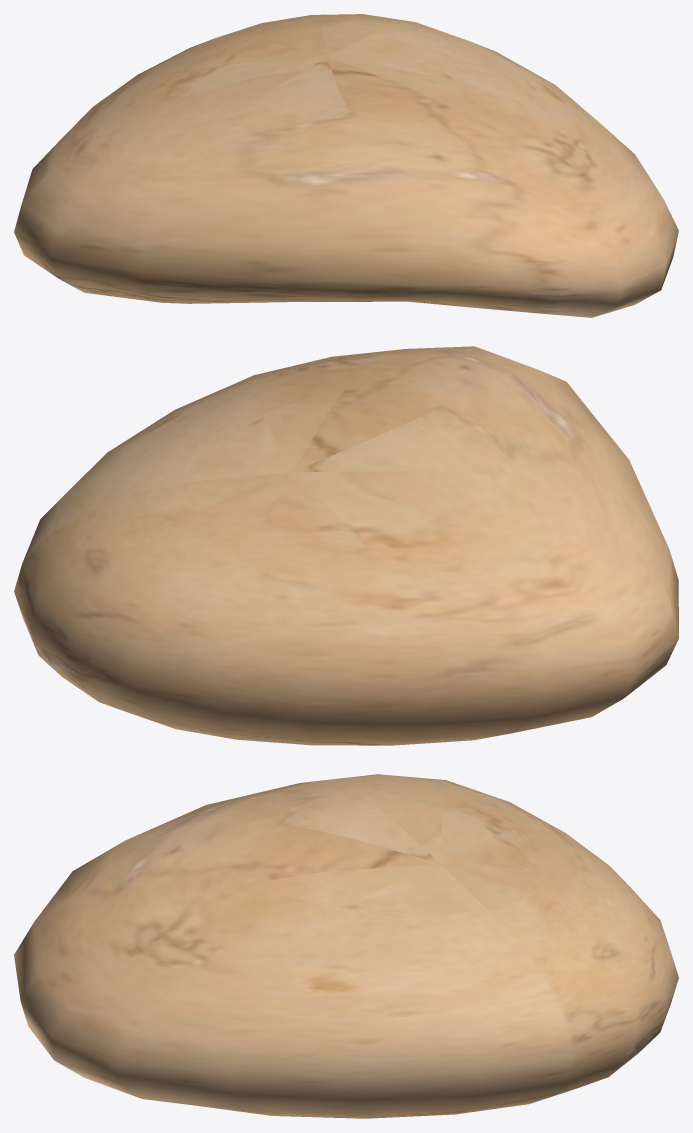
File: Rock_F.fbx
The picture shows the model from 3 angles, top to bottom: view 1: azimuth 30°, elevation 25°; view 2: azimuth 150°, elevation 25°; view 3: azimuth 270°, elevation 25°; orthographic projection. The views are drawn at different scales.
Parts seen in each view (by area): view 1: pSphere8; view 2: pSphere8; view 3: pSphere8.
Part boxes in pixels (left/top/right/bottom): pSphere8: left=14, top=14, right=678, bottom=317; pSphere8: left=14, top=346, right=678, bottom=745; pSphere8: left=14, top=774, right=678, bottom=1118.
Bounding box in the file's own units: 5.48 × 2.1 × 5.86.
Materials: 1 (1 with a texture image).
